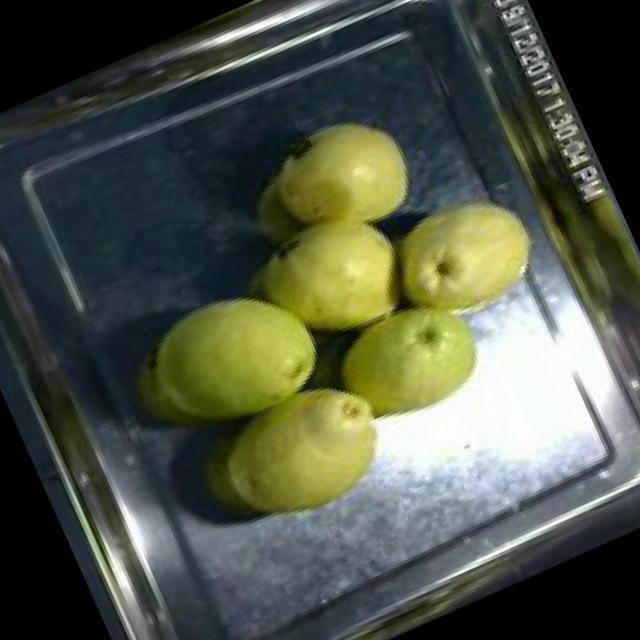Fruit: (106, 255, 344, 458), (196, 356, 413, 554), (225, 180, 430, 366), (302, 273, 508, 456), (362, 167, 566, 351), (249, 91, 437, 266)
